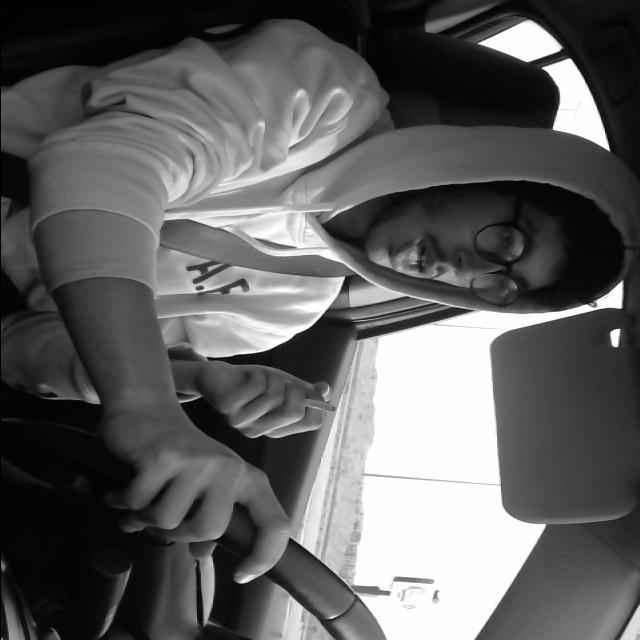smoking: (280, 394, 342, 414)
